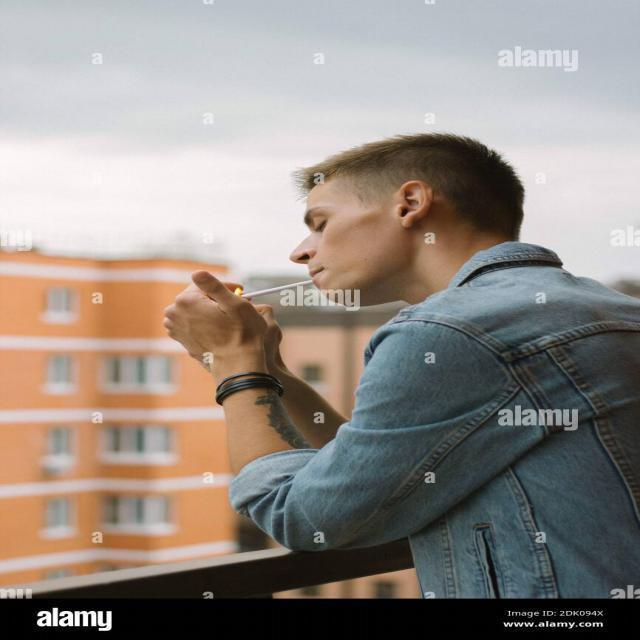smoking: (222, 270, 350, 302)
